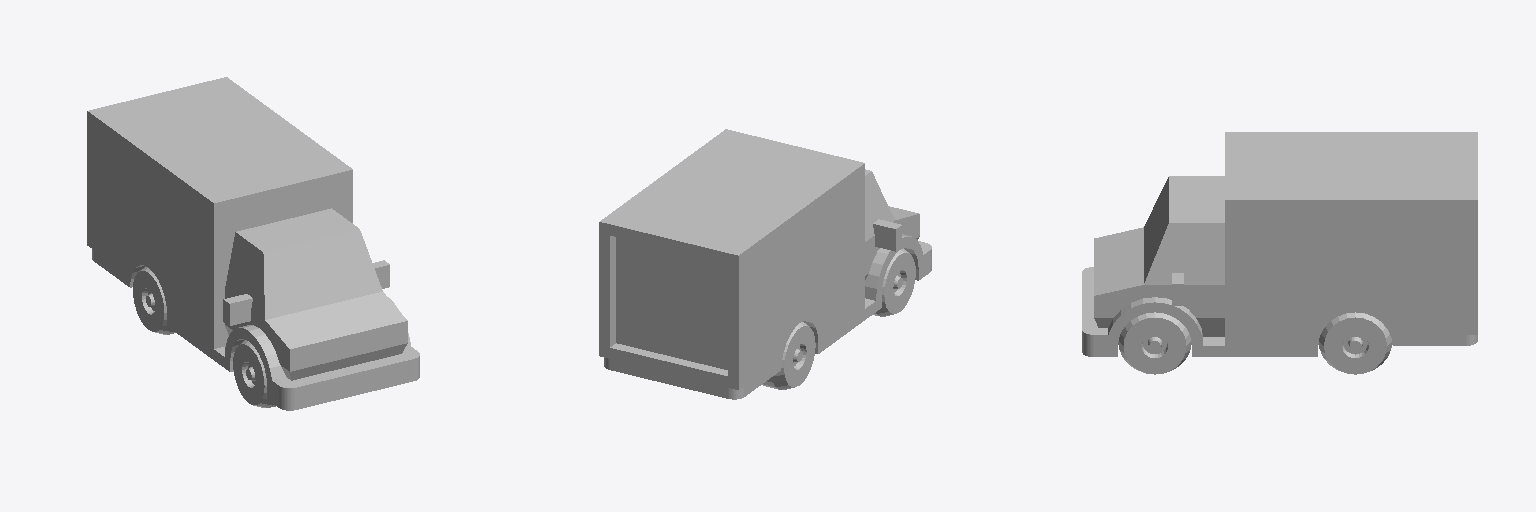
The model's file is delivery.obj.
3 views of the same model, side by side, from view 1: azimuth 30°, elevation 25°; view 2: azimuth 150°, elevation 25°; view 3: azimuth 270°, elevation 25° (orthographic).
Parts seen in each view (by area): view 1: body, wheel_backRight, wheel_frontRight; view 2: body, door, wheel_backRight, wheel_frontRight; view 3: body, wheel_backLeft, wheel_frontLeft.
Boxes of the visible parts, <box> form: body: <box>87,77,419,410</box>; wheel_backRight: <box>133,266,175,334</box>; wheel_frontRight: <box>233,340,275,407</box>; body: <box>599,129,931,399</box>; door: <box>616,237,727,369</box>; wheel_backRight: <box>762,322,815,389</box>; wheel_frontRight: <box>873,248,915,316</box>; body: <box>1082,132,1477,356</box>; wheel_backLeft: <box>1319,312,1391,374</box>; wheel_frontLeft: <box>1118,312,1191,374</box>.
Size of the model in its own units: 1.12 by 1.2 by 2.4.